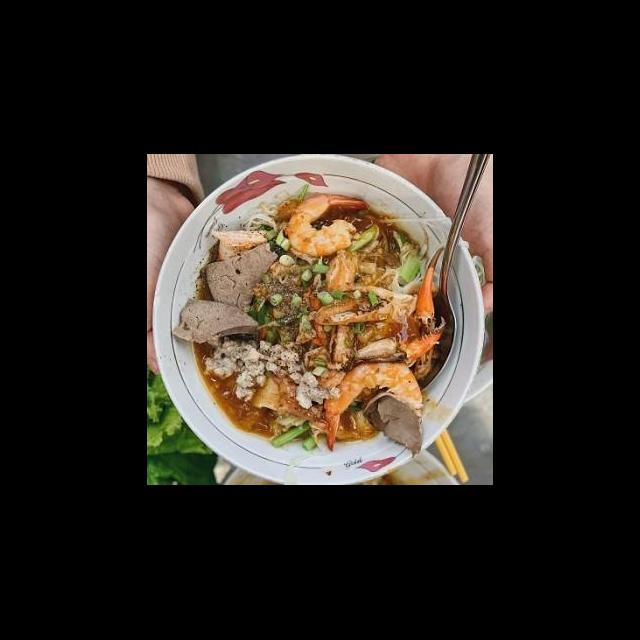gan: (200, 238, 280, 324), (168, 294, 267, 348)
thit bam: (200, 332, 344, 412)
tom: (322, 356, 427, 456), (283, 188, 372, 260)
